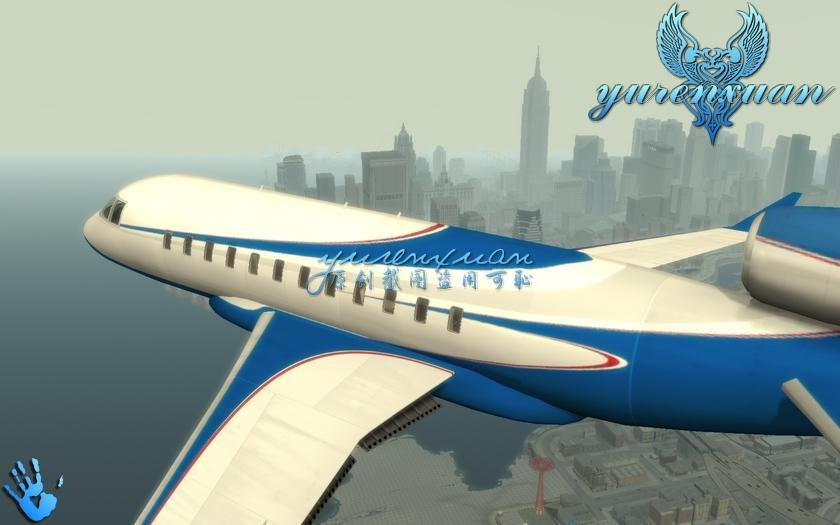airplane: (80, 165, 840, 522)
